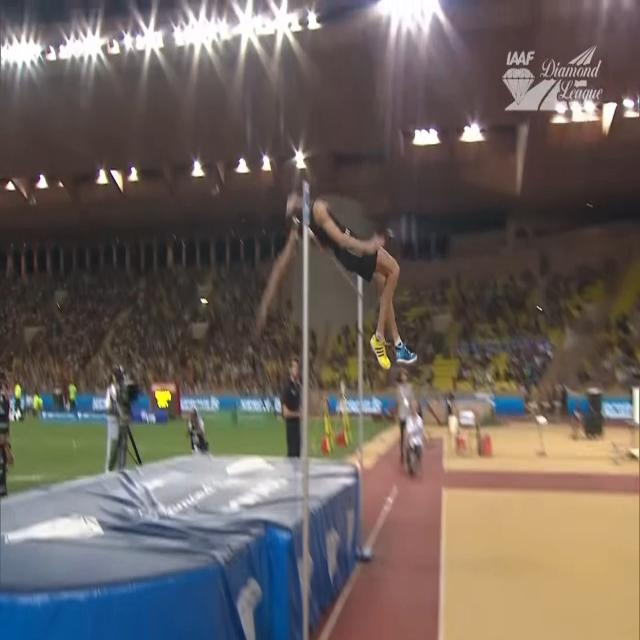jump: (253, 190, 419, 367)
